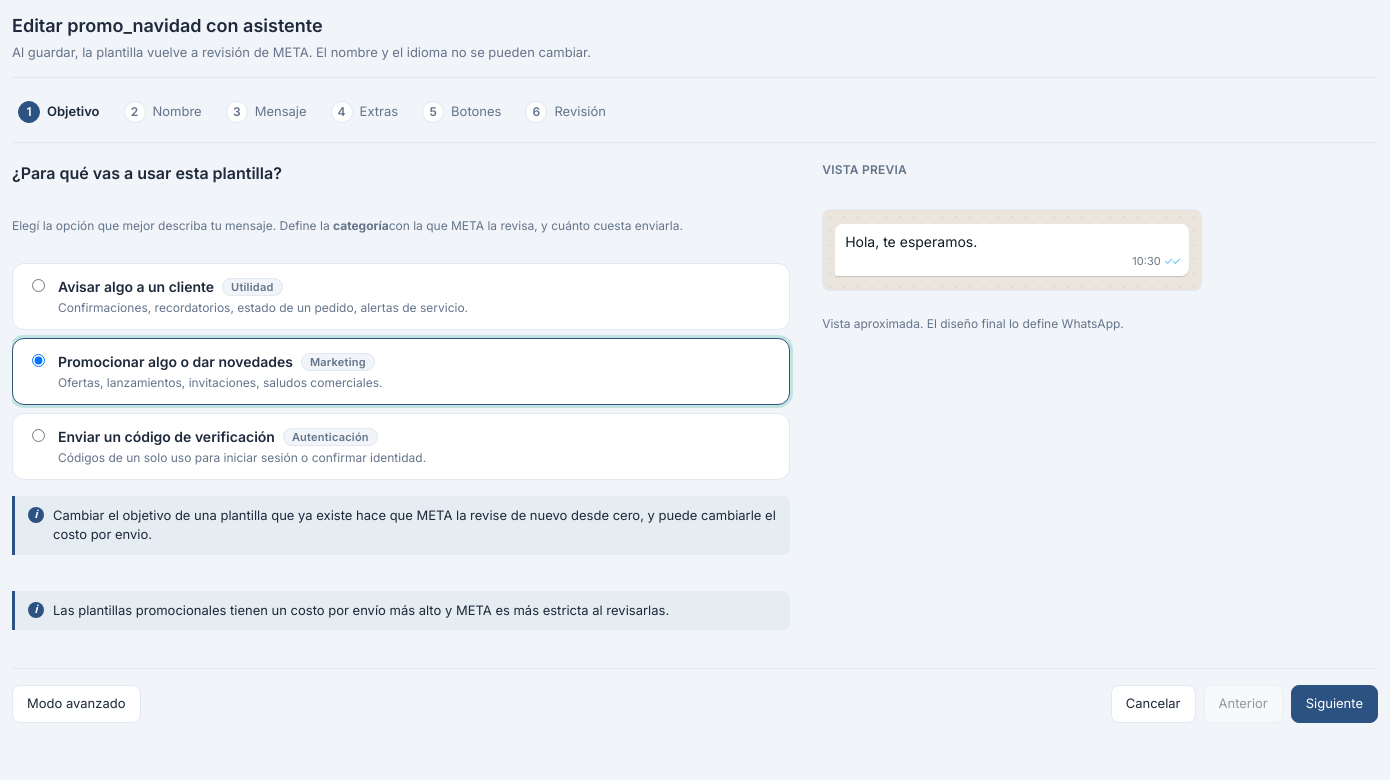
TemplateEditor › al editar, el nombre y el idioma quedan bloqueados
Click the button "Siguiente": (1334, 704) [1291,685,1378,722]
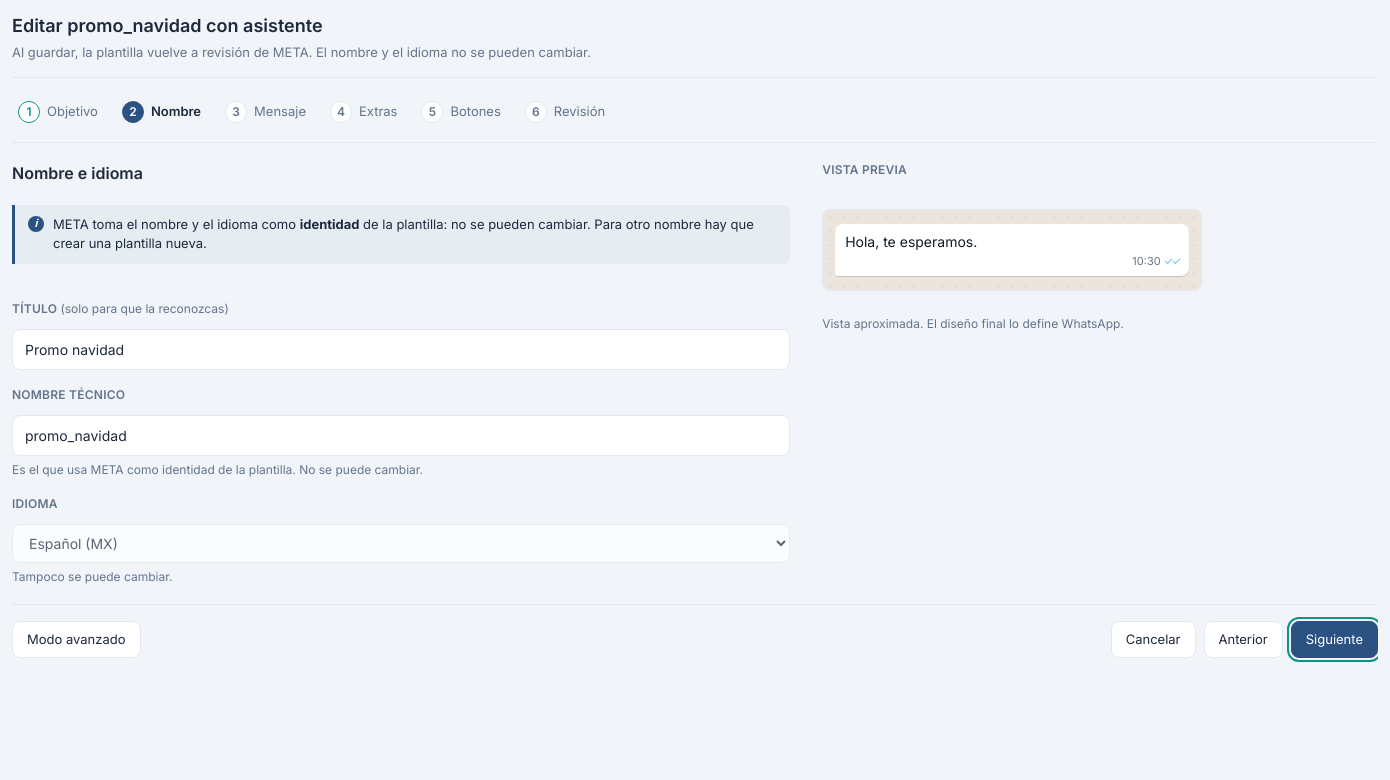
Expected: the text "no se pueden cambiar" is shown, [12,44,591,60]
Result: the field labelled "Nombre técnico" is disabled at [12,414,790,456]
Result: the dropdown labelled "Idioma" is disabled at [12,524,790,562]
